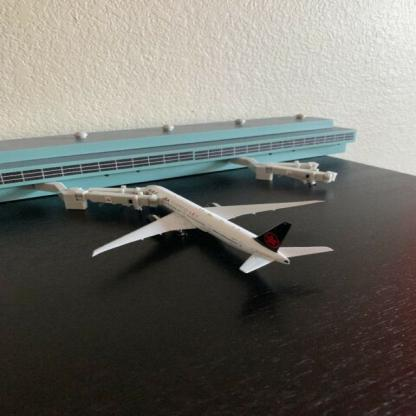CIV_Plane: (83, 180, 334, 280)
